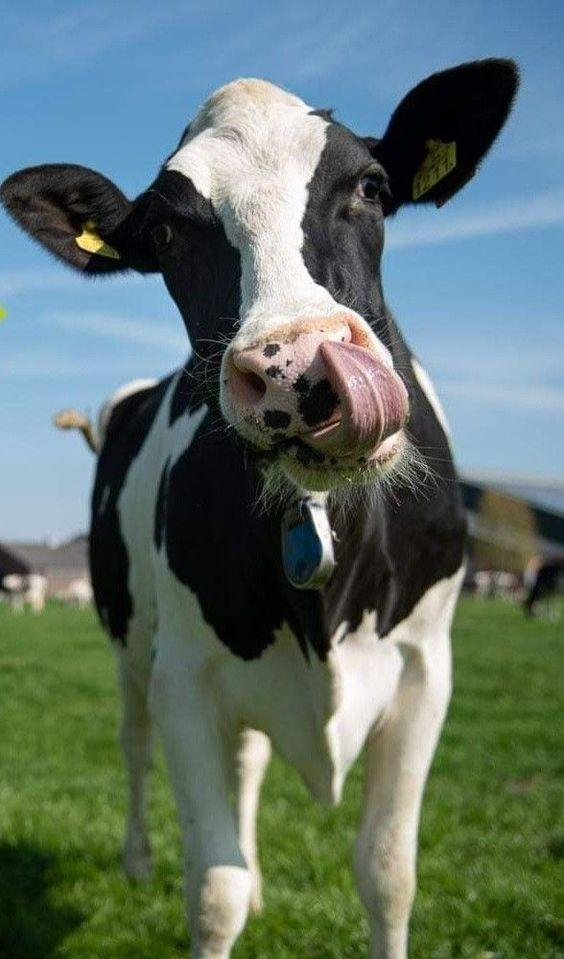cow: (5, 45, 535, 818)
